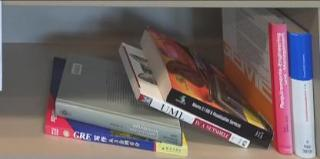book-spine: (165, 88, 275, 149), (137, 94, 251, 149), (53, 102, 185, 146), (44, 125, 189, 157), (289, 32, 316, 159), (270, 23, 294, 155)
